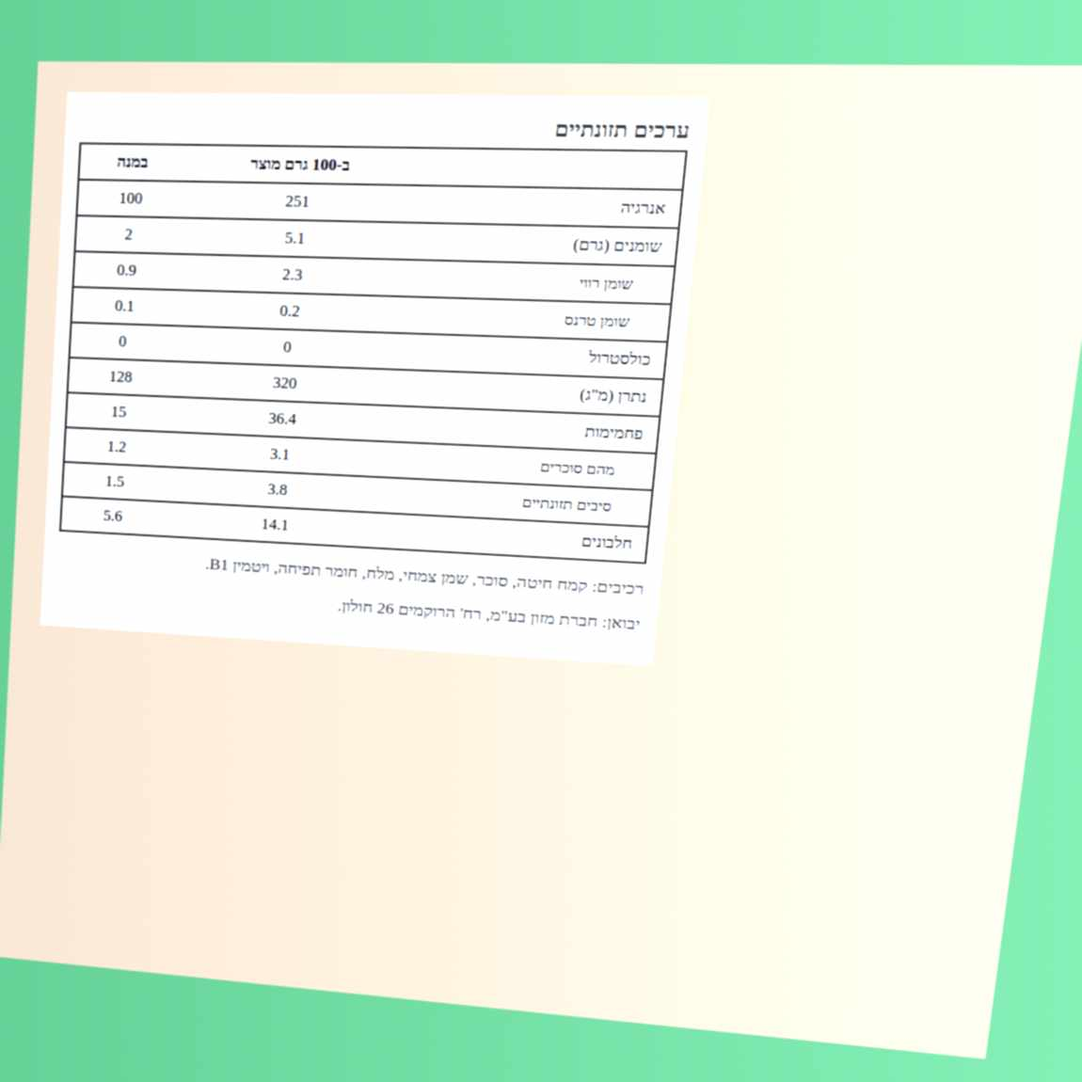carbs: (266, 408, 299, 429)
energy: (283, 191, 312, 212)
fat: (282, 228, 308, 249)
protein: (259, 514, 291, 535)
